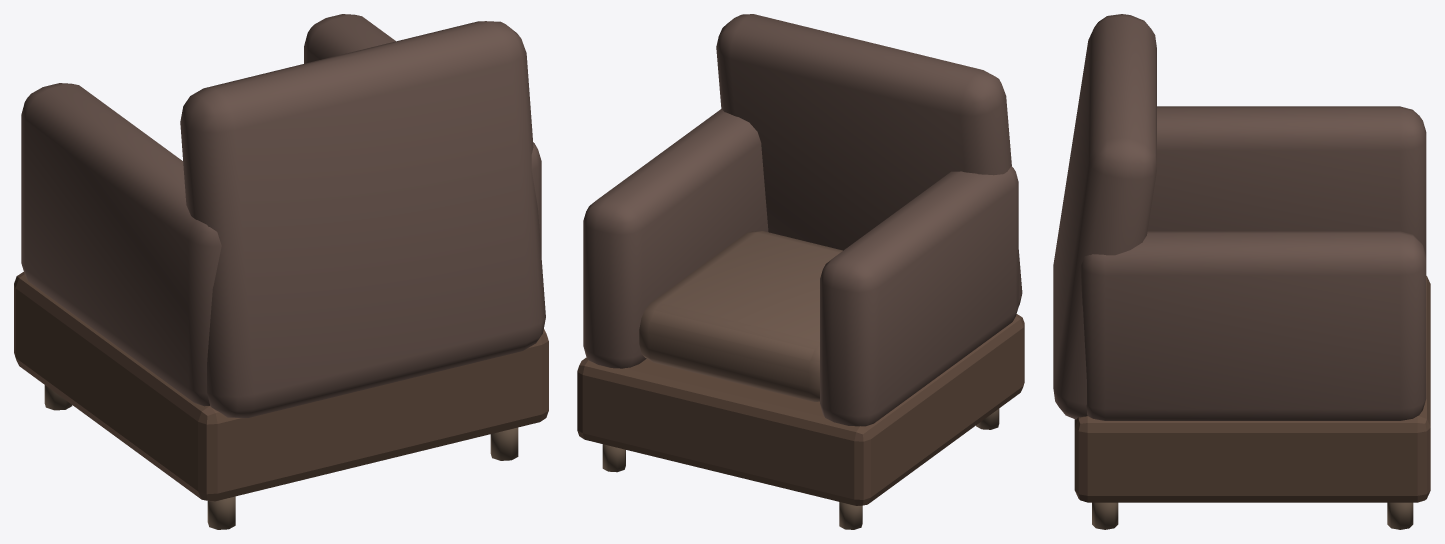
Rendered from armchair.glb.
The picture shows the model from 3 angles, left to right: view 1: azimuth 30°, elevation 25°; view 2: azimuth 150°, elevation 25°; view 3: azimuth 270°, elevation 25°; orthographic projection. The views are drawn at different scales.
Visible parts, largest first — view 1: armchair; view 2: armchair; view 3: armchair.
Part boxes in pixels (left/top/right/bottom): armchair: left=14, top=14, right=548, bottom=529; armchair: left=577, top=14, right=1024, bottom=529; armchair: left=1053, top=14, right=1430, bottom=529.
Bounding box in the file's own units: 0.84 × 0.9779 × 0.8696.
